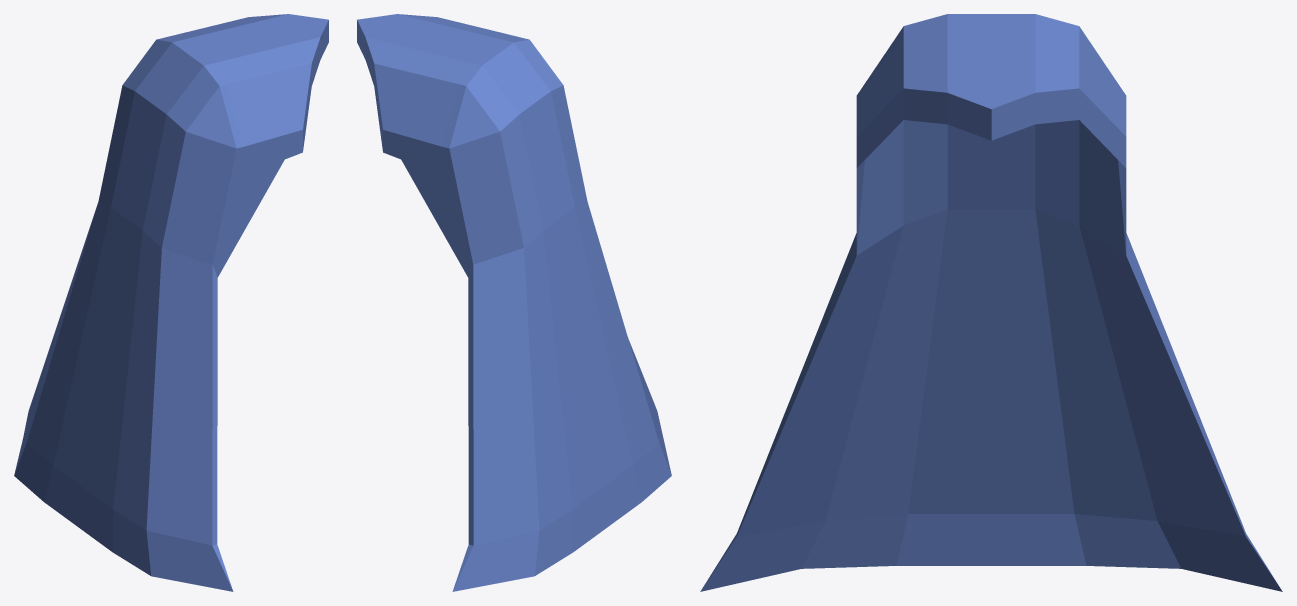
Rendered from Smith Cape MKII (Head).fbx.
The picture shows the model from 3 angles, left to right: view 1: azimuth 30°, elevation 25°; view 2: azimuth 150°, elevation 25°; view 3: azimuth 270°, elevation 25°; orthographic projection. The views are drawn at different scales.
Visible parts, largest first — view 1: Smith Cape MKII; view 2: Smith Cape MKII; view 3: Smith Cape MKII.
Boxes of the visible parts, box(x1,y1,x2,y2) form: Smith Cape MKII: box(14, 14, 328, 591); Smith Cape MKII: box(357, 14, 671, 591); Smith Cape MKII: box(700, 14, 1282, 591).
Size of the model in its own units: 456 by 777 by 663.
